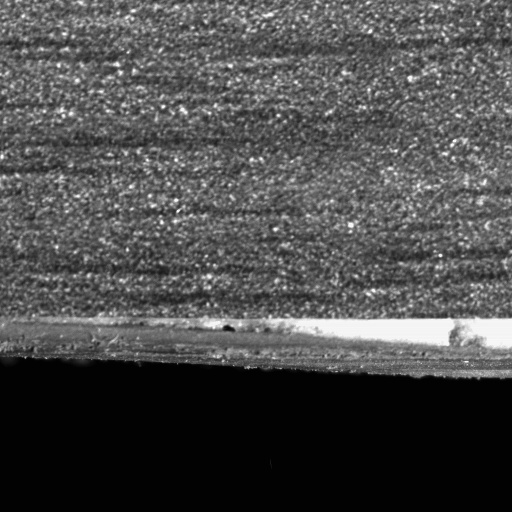kaijiao: (0, 310, 511, 384)
